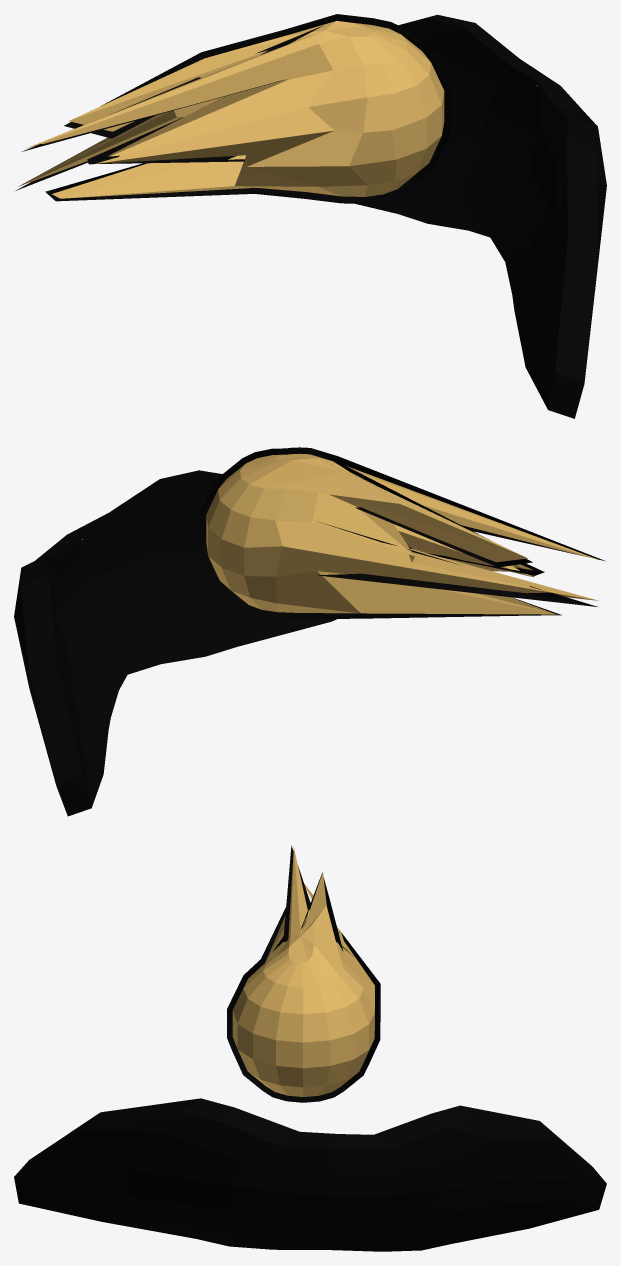
File: StompWave.fbx
The picture shows the model from 3 angles, top to bottom: view 1: azimuth 30°, elevation 25°; view 2: azimuth 150°, elevation 25°; view 3: azimuth 270°, elevation 25°; orthographic projection. The views are drawn at different scales.
Visible parts, largest first — view 1: bullet, ae; view 2: bullet, ae; view 3: ae, bullet.
Part boxes in pixels (box(x1,y1,x2,y2)): bullet: box(15, 14, 450, 203); ae: box(355, 14, 606, 418); bullet: box(200, 447, 605, 619); ae: box(14, 470, 336, 816); ae: box(14, 1098, 606, 1251); bullet: box(227, 845, 380, 1102).
Bounding box in the file's own units: 752 × 374 × 817.
